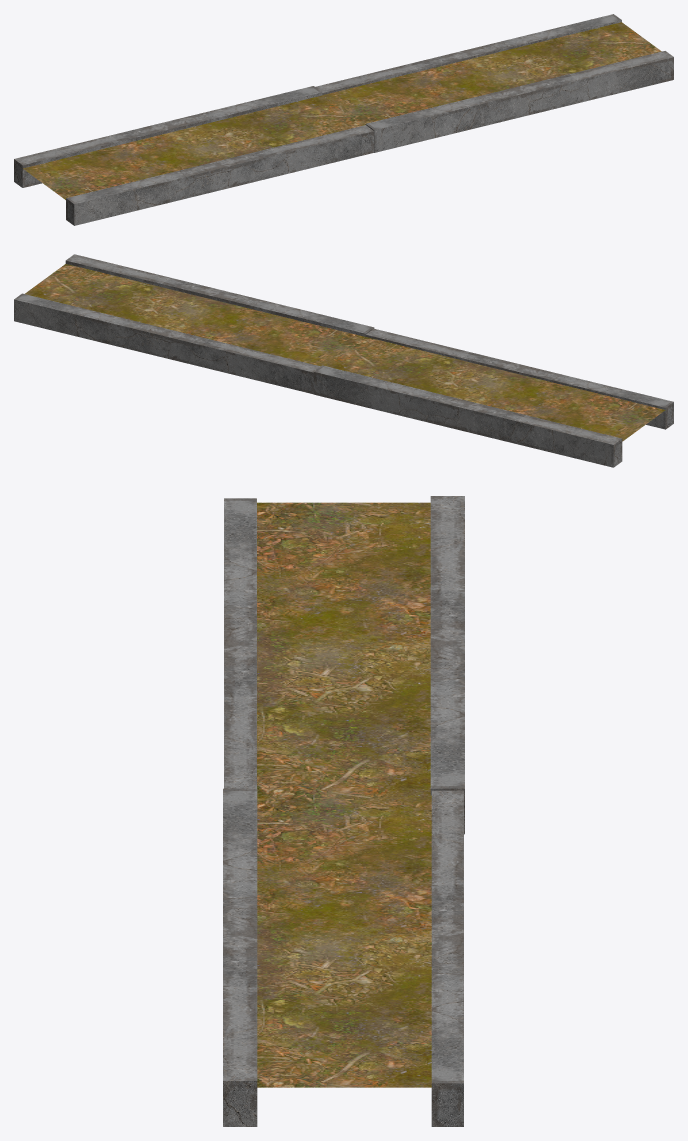
File: HH_Concrete_Island_Ground_1.5x8m.fbx
3 views of the same model, one above another, from view 1: azimuth 30°, elevation 25°; view 2: azimuth 150°, elevation 25°; view 3: azimuth 270°, elevation 25° (orthographic). The views are drawn at different scales.
Visible parts, largest first — view 1: HH_Concrete_Island_Ground_1.5x8m; view 2: HH_Concrete_Island_Ground_1.5x8m; view 3: HH_Concrete_Island_Ground_1.5x8m.
Boxes of the visible parts, bbox=[...] form: HH_Concrete_Island_Ground_1.5x8m: bbox=[14, 14, 673, 225]; HH_Concrete_Island_Ground_1.5x8m: bbox=[14, 254, 673, 467]; HH_Concrete_Island_Ground_1.5x8m: bbox=[223, 496, 464, 1126].
Size of the model in its own units: 800 by 29.16 by 140.
